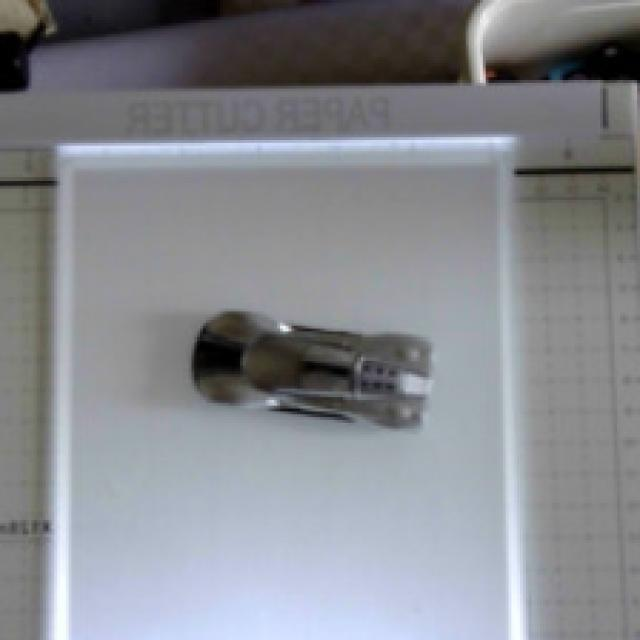Grey Car: (155, 268, 482, 477)
